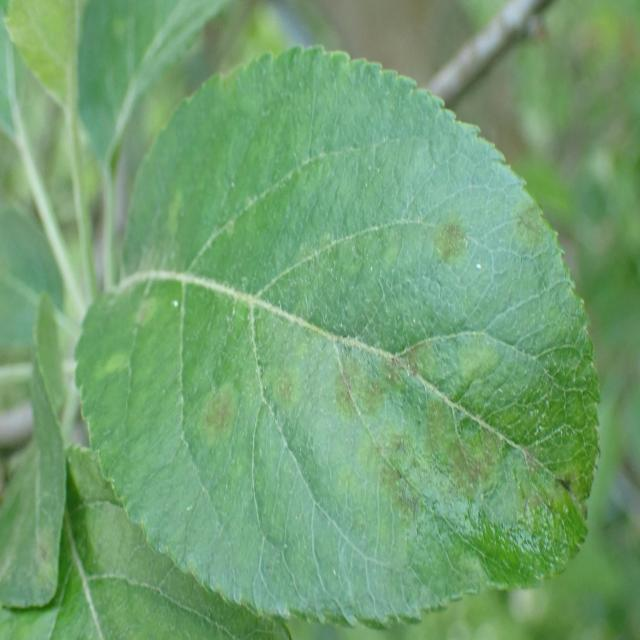scab: (114, 115, 599, 607), (0, 342, 75, 635)
